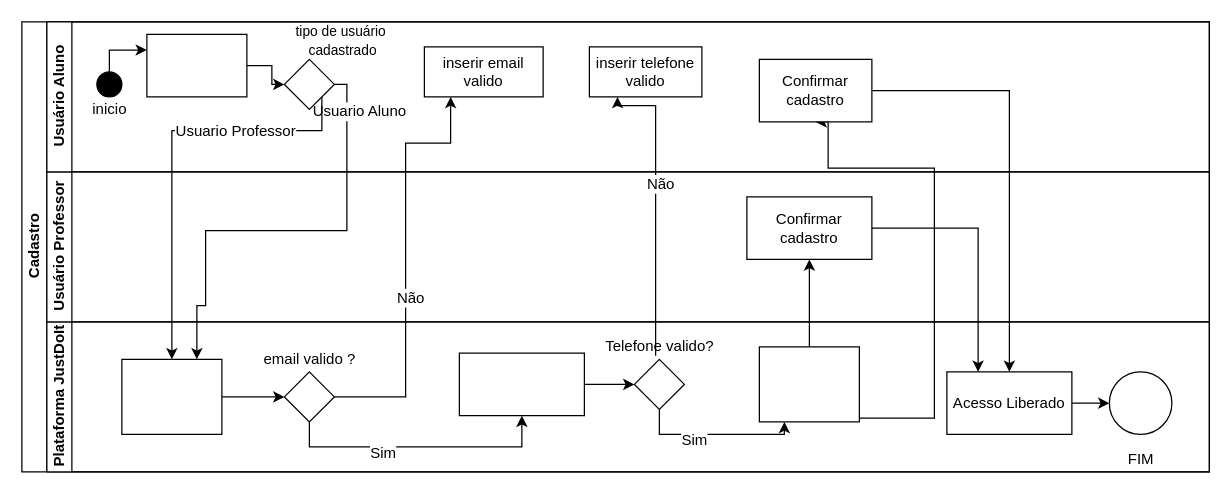
The diagram is 1231 pixels wide and 494 high, and some of its shapes have lost their labels. Here are the shapes that lost their labels. From the top down, the centre of each, then its label:
(196,65): Fazer cadastro no site institucional
(171,396): Validar email
(521,384): Validar Telefone
(808,384): Mandar confirmação de cadatro
